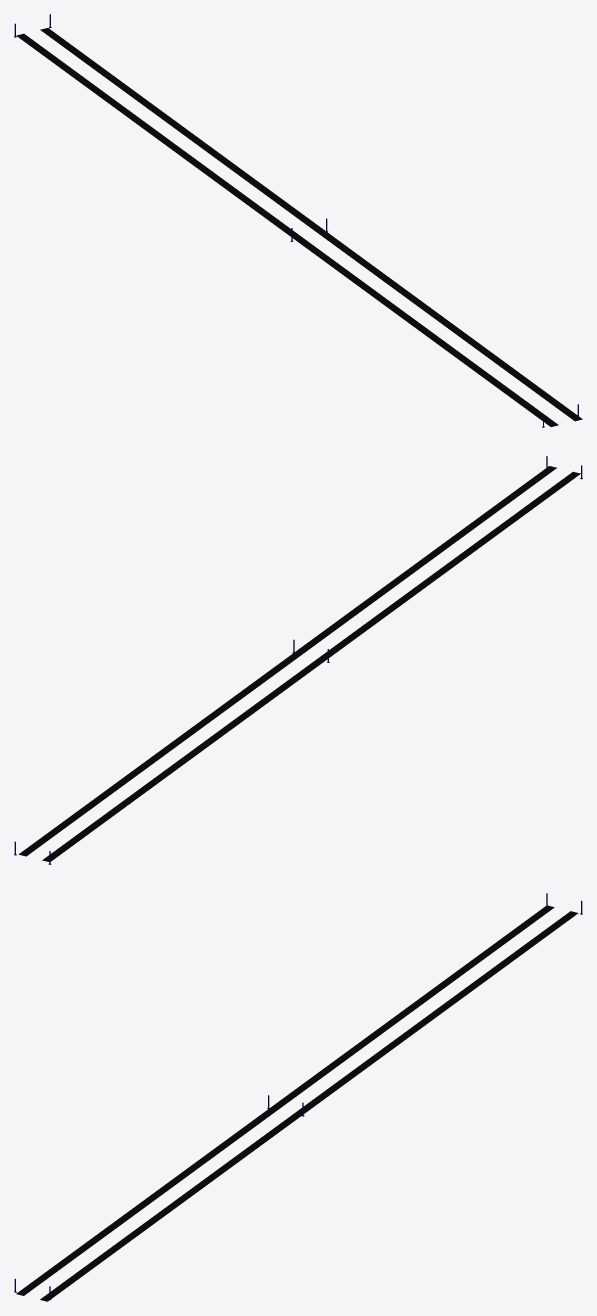
The model's file is WestrianBridge.fbx.
3 views of the same model, one above another, from view 1: azimuth 30°, elevation 25°; view 2: azimuth 150°, elevation 25°; view 3: azimuth 330°, elevation 25° (orthographic).
Parts seen in each view (by area): view 1: Cube, Cube.001; view 2: Cube, Cube.001; view 3: Cube.001, Cube.
Part boxes in pixels (x1,y1,x2,y2): Cube: (40,28,582,421); Cube.001: (16,33,558,426); Cube: (18,466,556,856); Cube.001: (42,471,580,861); Cube.001: (16,905,554,1295); Cube: (40,911,578,1301).
Size of the model in its own units: 16670 by 5633 by 380777.
